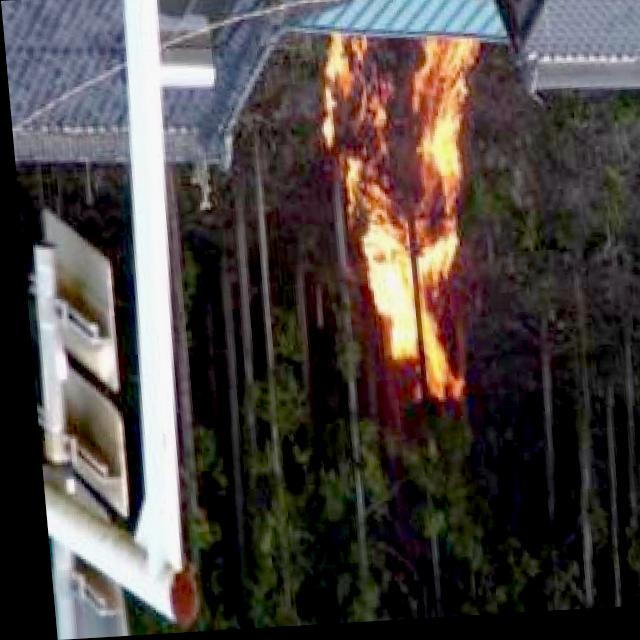helmet: (315, 34, 492, 399)
